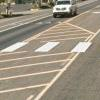Crosswalk: (7, 36, 95, 61)
